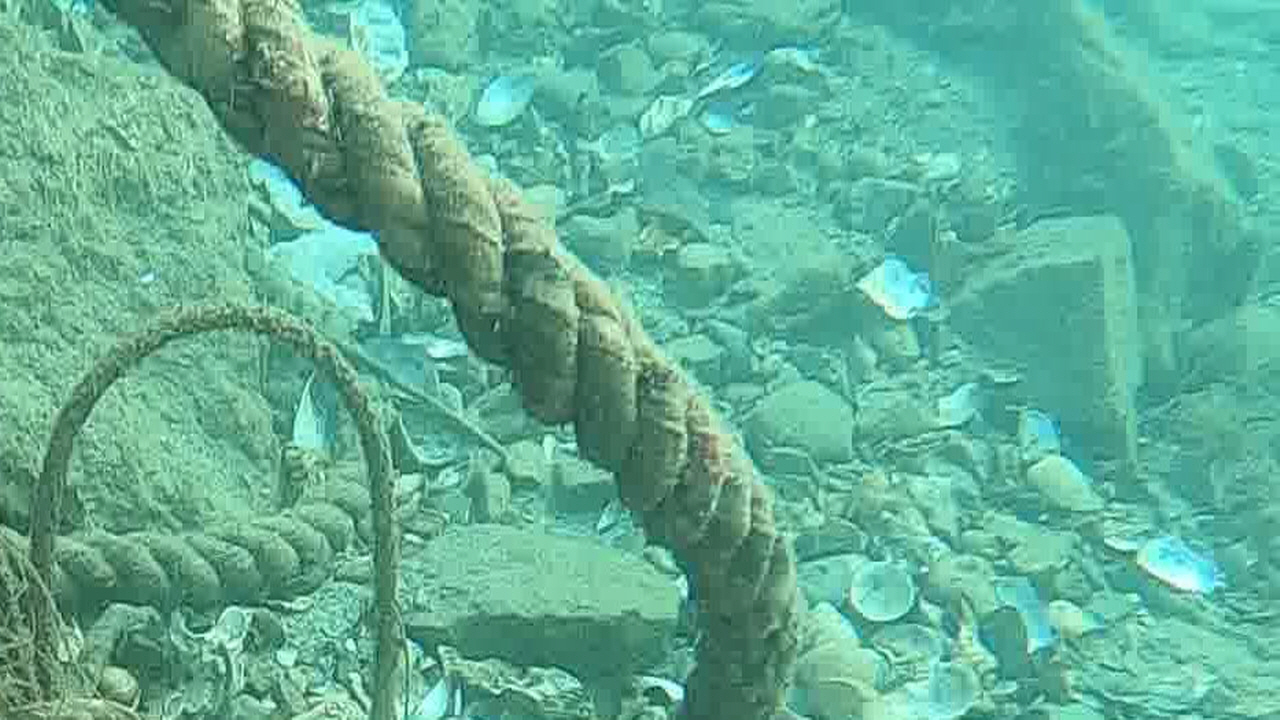rope: (95, 0, 803, 720), (25, 295, 400, 716), (43, 443, 372, 620)
